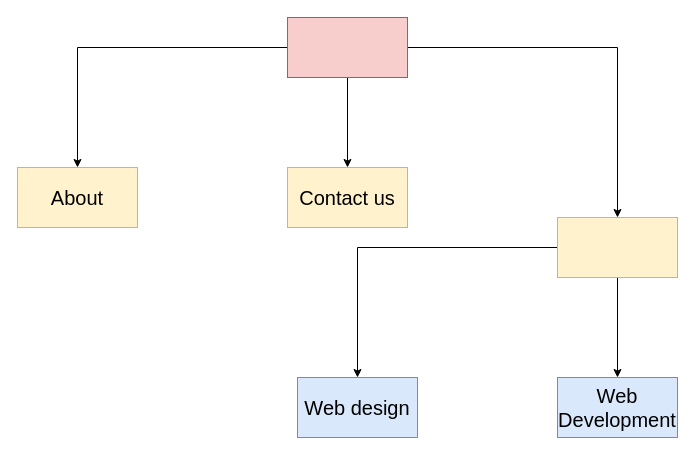
This 695x455 diagram has some shape labels left out. Each missing label, with the centre of its shape:
Home: pixel 347 47
Services: pixel 617 247
